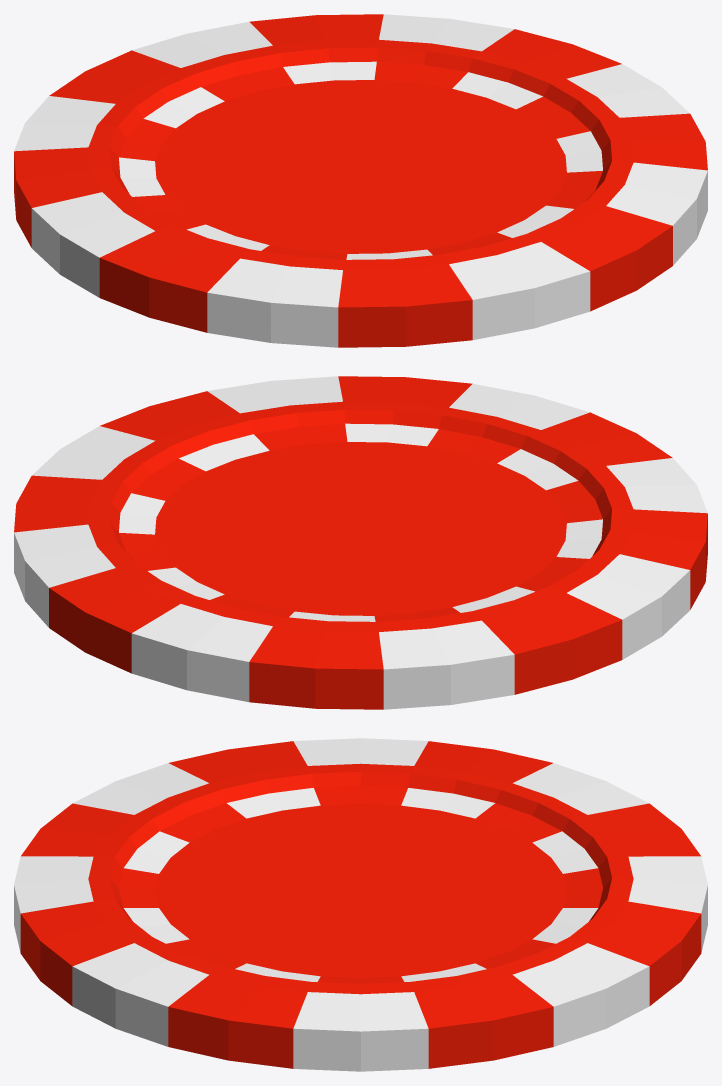
Rendered from Ficha.glb.
The picture shows the model from 3 angles, top to bottom: view 1: azimuth 30°, elevation 25°; view 2: azimuth 150°, elevation 25°; view 3: azimuth 270°, elevation 25°; orthographic projection.
Visible parts, largest first — view 1: Cylinder; view 2: Cylinder; view 3: Cylinder.
Boxes of the visible parts, x1,y1,x2,y2 form: Cylinder: (14,14,707,347); Cylinder: (14,376,707,709); Cylinder: (14,738,707,1071).
Size of the model in its own units: 0.9144 by 0.0789 by 0.9144.
